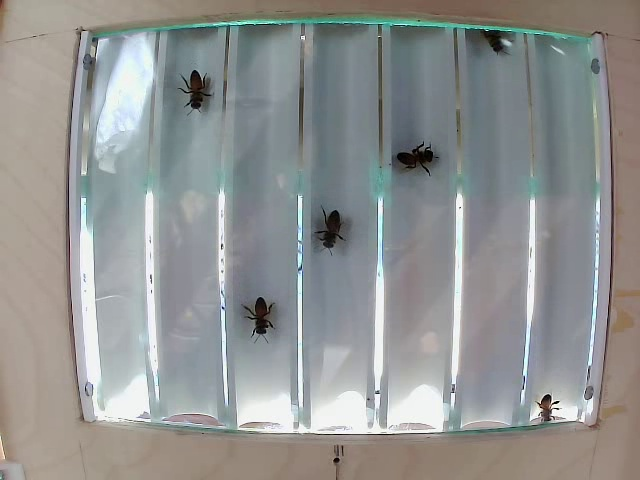bee: (240, 283, 283, 339), (396, 138, 446, 186), (184, 69, 222, 120), (311, 203, 349, 249), (480, 31, 510, 64)
